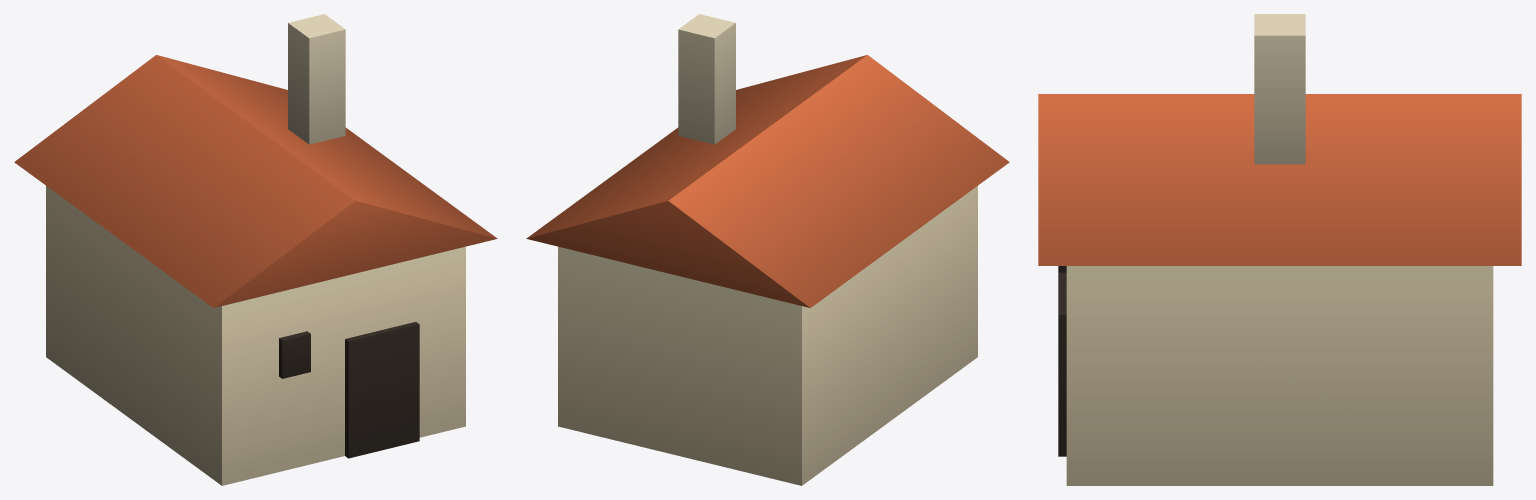
File: house_ME_3a.glb
The picture shows the model from 3 angles, left to right: view 1: azimuth 30°, elevation 25°; view 2: azimuth 150°, elevation 25°; view 3: azimuth 270°, elevation 25°; orthographic projection. The views are drawn at different scales.
Visible parts, largest first — view 1: Body; view 2: Body; view 3: Body.
Part boxes in pixels (x1=…): Body: x1=14, y1=14, x2=497, y2=485; Body: x1=526, y1=14, x2=1009, y2=485; Body: x1=1038, y1=14, x2=1521, y2=485.
Size of the model in its own units: 1.4 by 1.65 by 1.7.
Materials: 1 (1 with a texture image).
